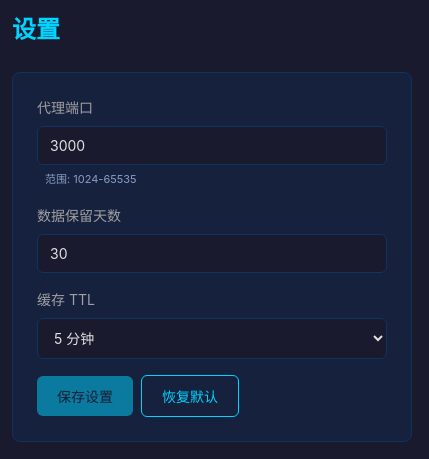
Test: Settings 边界场景 › 切换缓存 TTL 后保存按钮启用
expect the button "保存设置" is shown: met, box [37,376,133,416]
Select "1 小时" in the dropdown labelled "缓存 TTL". click: (212, 338)
box: [37,318,387,359]
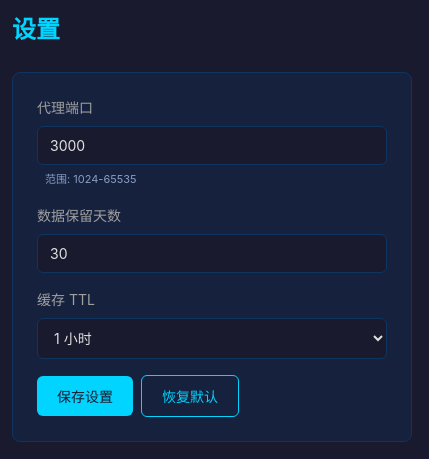
expect the button "保存设置" is enabled: met, box [37,376,133,416]
